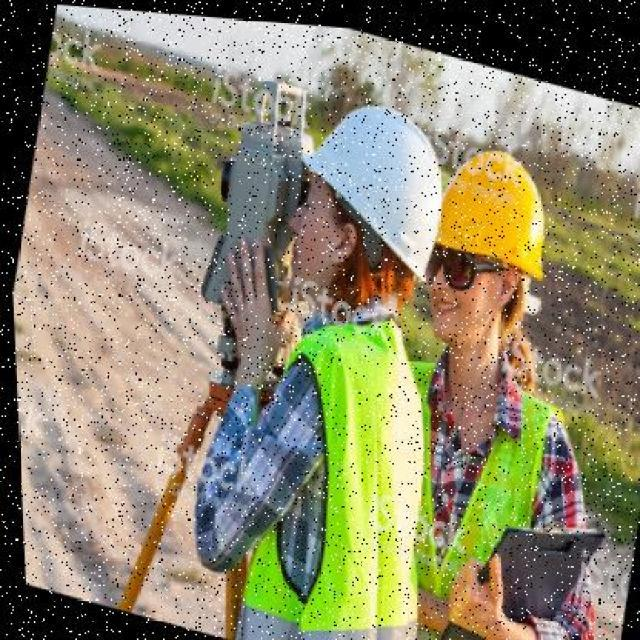helmet: (273, 71, 468, 289), (423, 119, 570, 289)
vest: (202, 297, 480, 639)
